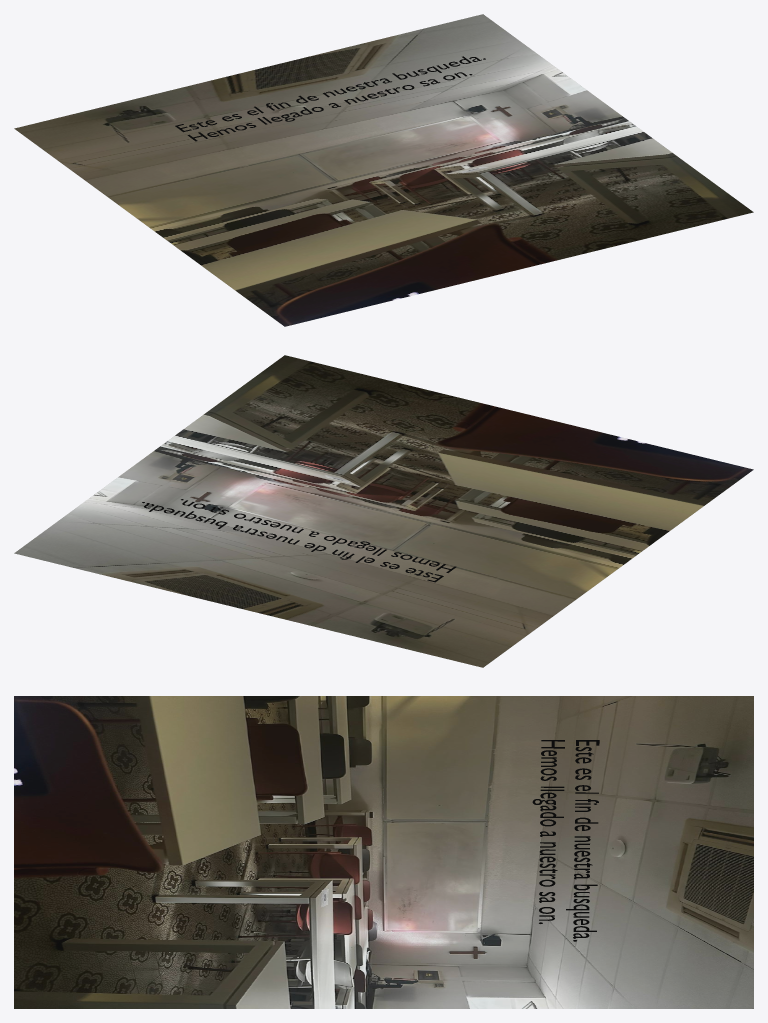
3 renders of one model, top to bottom at view 1: azimuth 30°, elevation 25°; view 2: azimuth 150°, elevation 25°; view 3: azimuth 270°, elevation 25°, orthographic. The views are drawn at different scales.
Visible parts, largest first — view 1: Plane, Text; view 2: Plane, Text; view 3: Plane, Text.
Boxes of the visible parts, x1,y1,x2,y2 form: Plane: [14, 14, 753, 326]; Text: [175, 56, 485, 141]; Plane: [14, 355, 753, 667]; Text: [142, 499, 456, 582]; Plane: [14, 696, 753, 1008]; Text: [532, 740, 599, 941].
Bounding box in the file's own units: 21.42 × 0.8123 × 21.42.
Materials: 2 (1 with a texture image).
